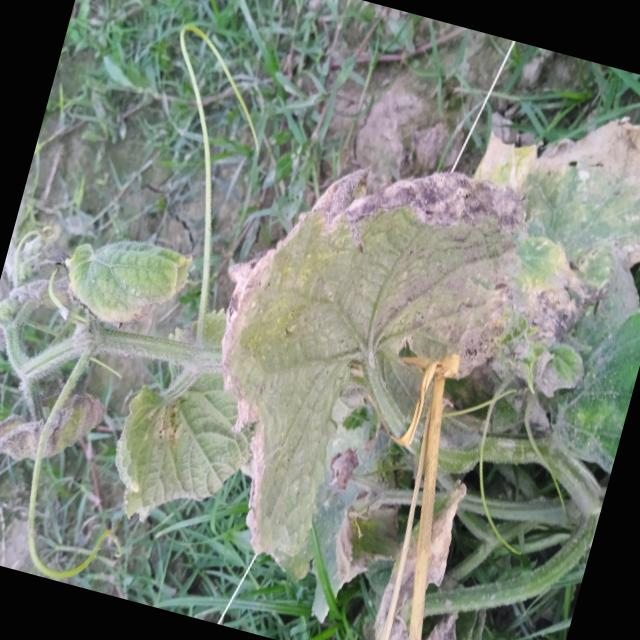cucumber_bacterial: (156, 130, 569, 614), (448, 78, 640, 413), (343, 455, 529, 640)
